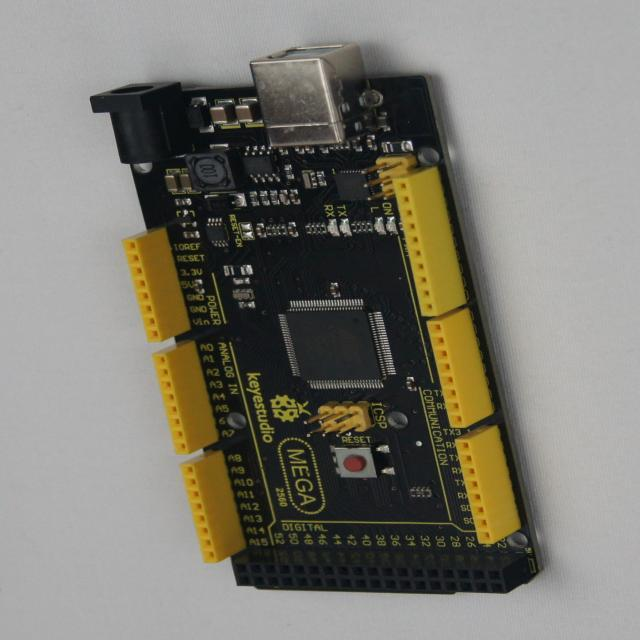Arduino Mega 2560 -Yellow-: (91, 45, 540, 593)
